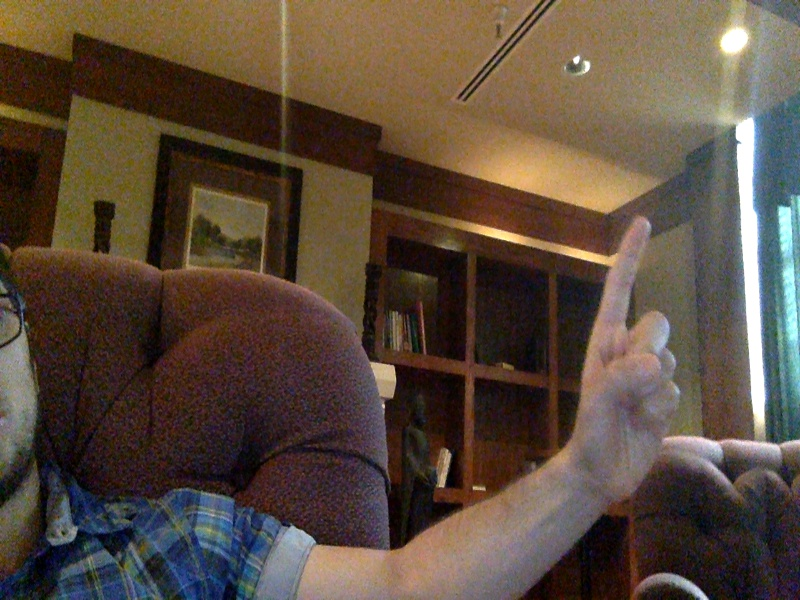1-hand: (579, 216, 680, 498)
